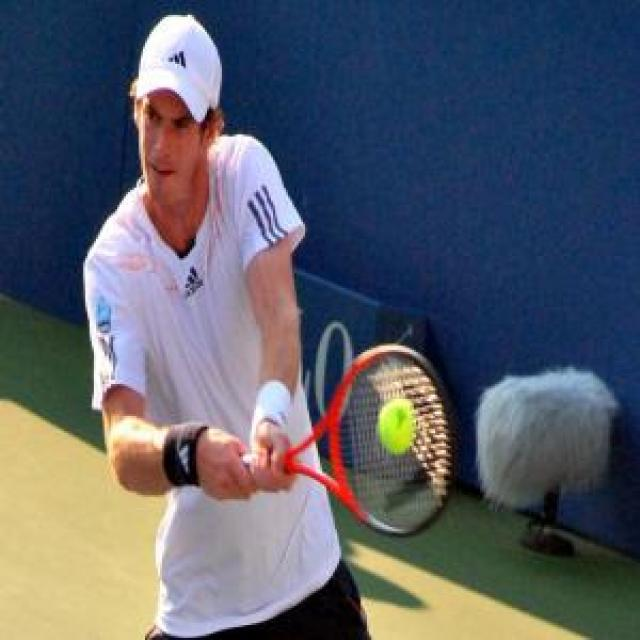Tennis-Ball: (374, 400, 418, 460)
